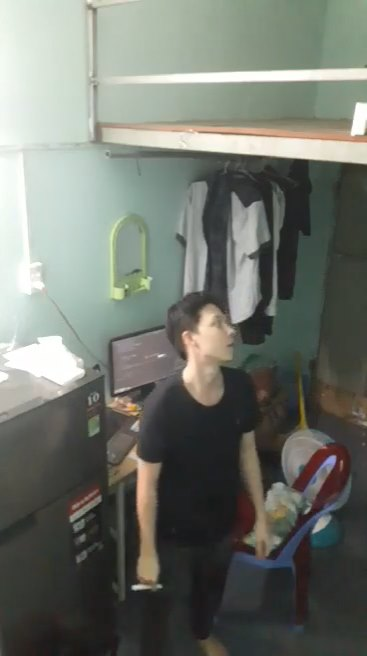cigarette: (132, 573, 166, 599)
person: (111, 285, 287, 654)
